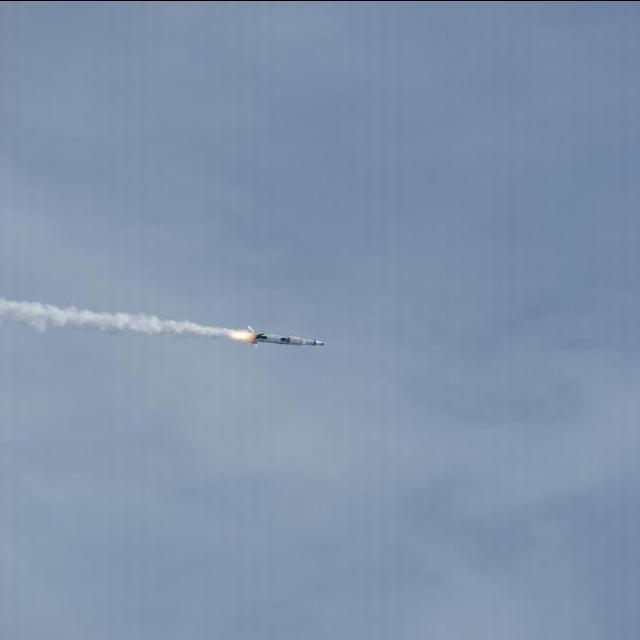missile: (248, 332, 325, 356)
